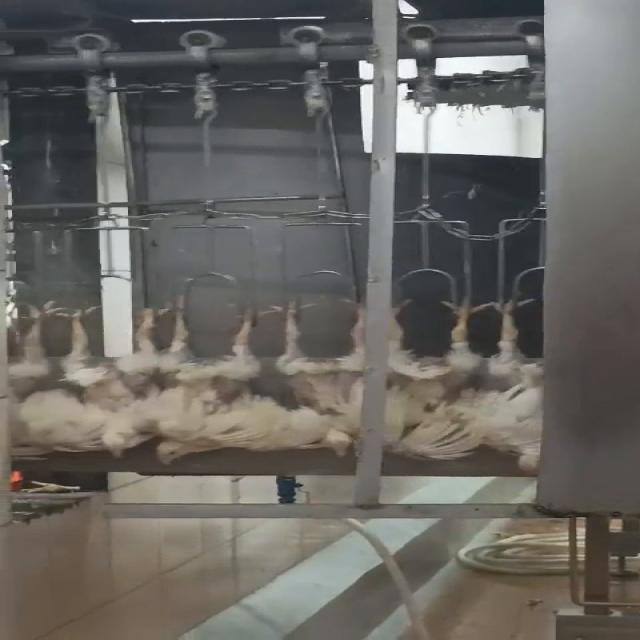chicken: (375, 294, 501, 464), (151, 304, 277, 466), (62, 296, 163, 458), (276, 295, 370, 460), (487, 294, 560, 481), (0, 295, 69, 462)
